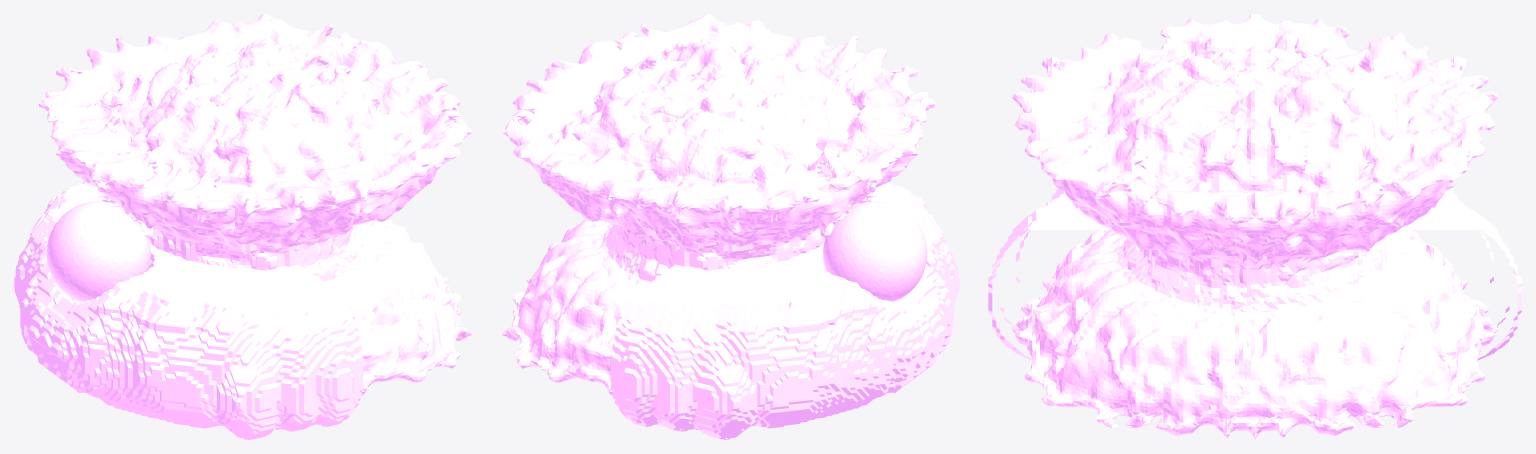
File: star-uscorpii.glb
3 renders of one model, left to right at view 1: azimuth 30°, elevation 25°; view 2: azimuth 150°, elevation 25°; view 3: azimuth 270°, elevation 25°, orthographic. The views are drawn at different scales.
Visible parts, largest first — view 1: U Scorpii.stl; view 2: U Scorpii.stl; view 3: U Scorpii.stl.
Part boxes in pixels (x1=…): U Scorpii.stl: x1=14, y1=14, x2=472, y2=439; U Scorpii.stl: x1=501, y1=14, x2=959, y2=439; U Scorpii.stl: x1=988, y1=14, x2=1521, y2=439.
Size of the model in its own units: 118 by 89.61 by 126.
